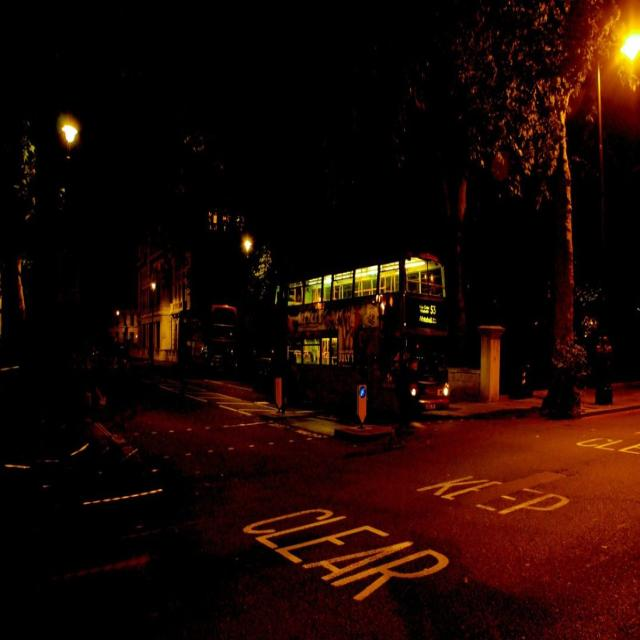Bus: (266, 239, 468, 425), (205, 294, 242, 379)
